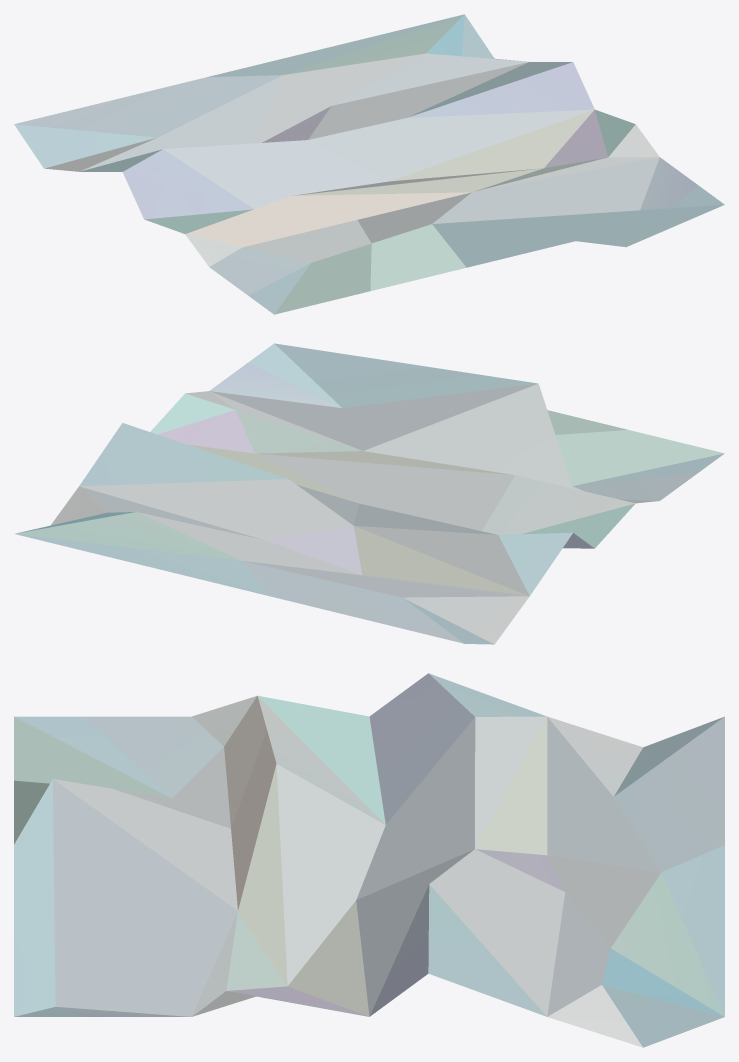
Rendered from sm_ground_ice_6.fbx.
The picture shows the model from 3 angles, top to bottom: view 1: azimuth 30°, elevation 25°; view 2: azimuth 150°, elevation 25°; view 3: azimuth 270°, elevation 25°; orthographic projection. The views are drawn at different scales.
Parts seen in each view (by area): view 1: sm_ground_ice_6; view 2: sm_ground_ice_6; view 3: sm_ground_ice_6.
Boxes of the visible parts, box(x1,y1,x2,y2) form: sm_ground_ice_6: box(14, 14, 724, 314); sm_ground_ice_6: box(14, 343, 724, 644); sm_ground_ice_6: box(14, 673, 724, 1047).
Size of the model in its own units: 30.33 by 200 by 200.
